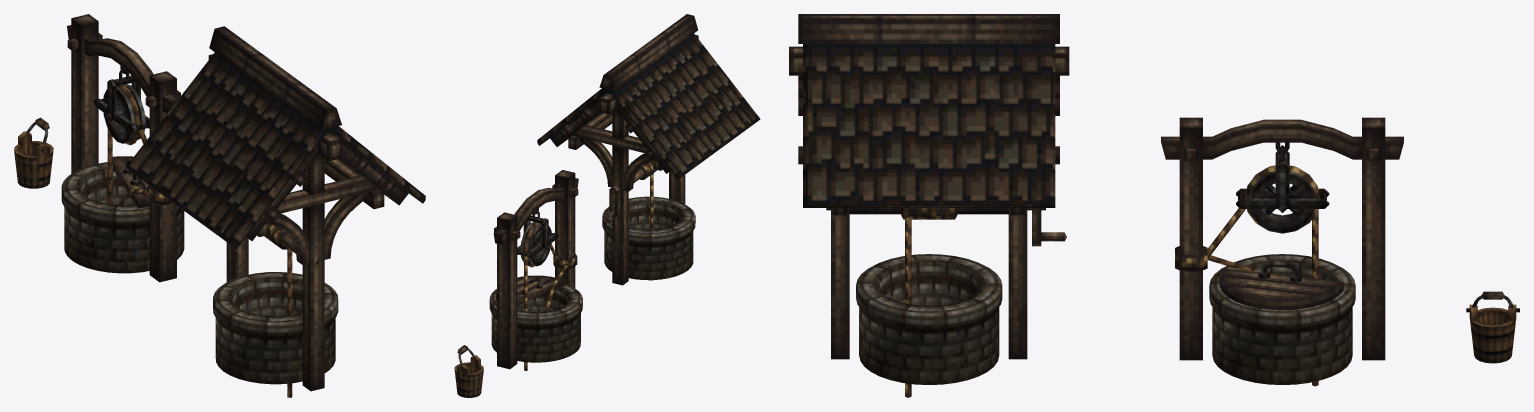
The model's file is EnvObjMD_Well_A_Roof_A.FBX.
3 renders of one model, left to right at view 1: azimuth 30°, elevation 25°; view 2: azimuth 150°, elevation 25°; view 3: azimuth 270°, elevation 25°, orthographic. The views are drawn at different scales.
Visible parts, largest first — view 1: EnvObjMD_Well_A_Roof_A, EnvObjMD_Well_A_NoRoof_A, EnvObjMD_Well_A_Tub_A; view 2: EnvObjMD_Well_A_Roof_A, EnvObjMD_Well_A_NoRoof_A, EnvObjMD_Well_A_Tub_A; view 3: EnvObjMD_Well_A_Roof_A, EnvObjMD_Well_A_NoRoof_A, EnvObjMD_Well_A_Tub_A.
Part boxes in pixels (x1,y1,x2,y2): EnvObjMD_Well_A_Roof_A: (125,26,425,397); EnvObjMD_Well_A_NoRoof_A: (61,14,184,282); EnvObjMD_Well_A_Tub_A: (14,117,53,188); EnvObjMD_Well_A_Roof_A: (537,14,760,285); EnvObjMD_Well_A_NoRoof_A: (489,170,582,370); EnvObjMD_Well_A_Tub_A: (454,345,483,397); EnvObjMD_Well_A_Roof_A: (789,14,1069,397); EnvObjMD_Well_A_NoRoof_A: (1161,117,1403,386); EnvObjMD_Well_A_Tub_A: (1466,291,1519,363).
Bounding box in the file's own units: 283 × 445 × 782.
